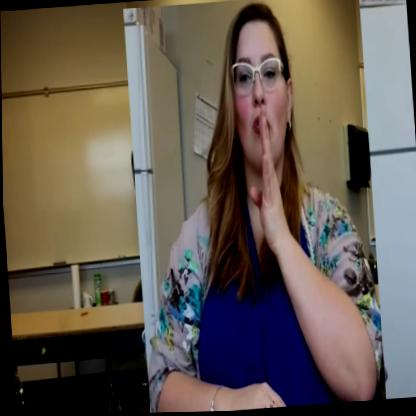Talk: (122, 0, 384, 414)
